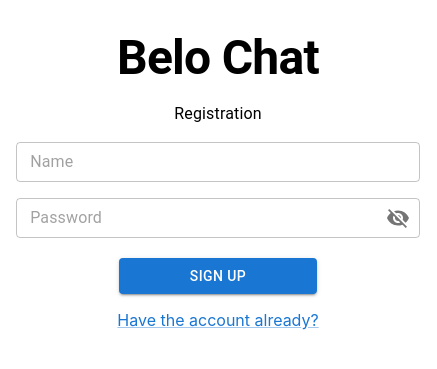
Test case: Home page › Should display password too short message and then hide it after page manipulations
This screenshot has width=437, height=369.
Type "123" into the password field with placeholder "Password" at (193, 218), box [16,198,370,238]
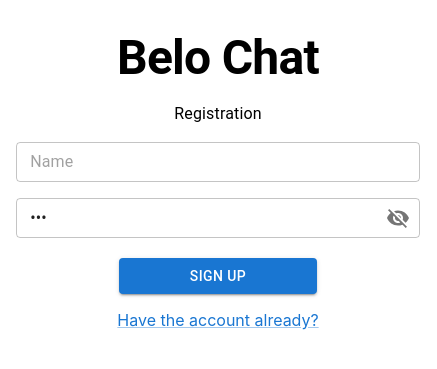
Click the button "Sign Up" at (218, 276), box [118,258,317,294]
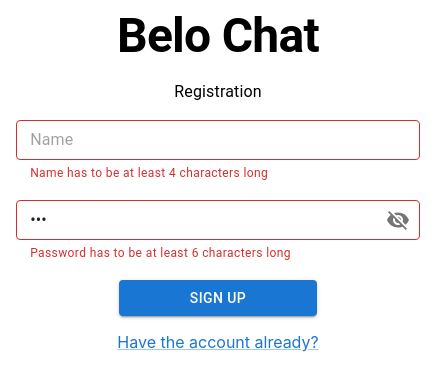
Result: the text "Password has to be at least 6 characters long" is shown at [30,246,291,260]
Type "12345" into the password field with placeholder "Password" at (193, 220), box [16,200,370,240]
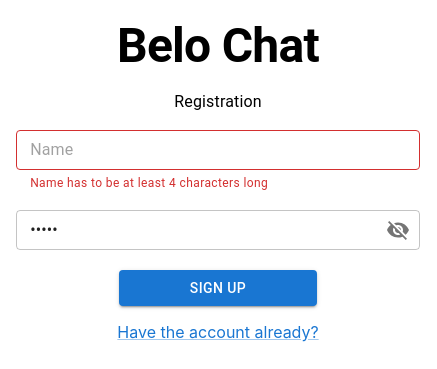
Result: the text "Password has to be at least 6 characters long" is gone
Click the button "Sign Up" at (218, 288), box [118,270,317,306]
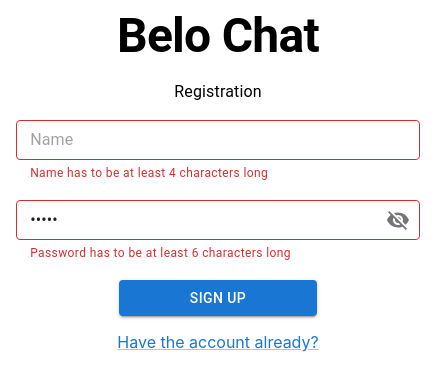
Result: the text "Password has to be at least 6 characters long" is shown at [30,246,291,260]
Click the link "Have the account already?" at (218, 342), box [117,332,319,352]
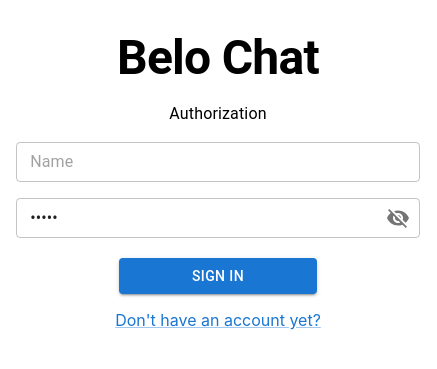
Result: the text "Password has to be at least 6 characters long" is gone
